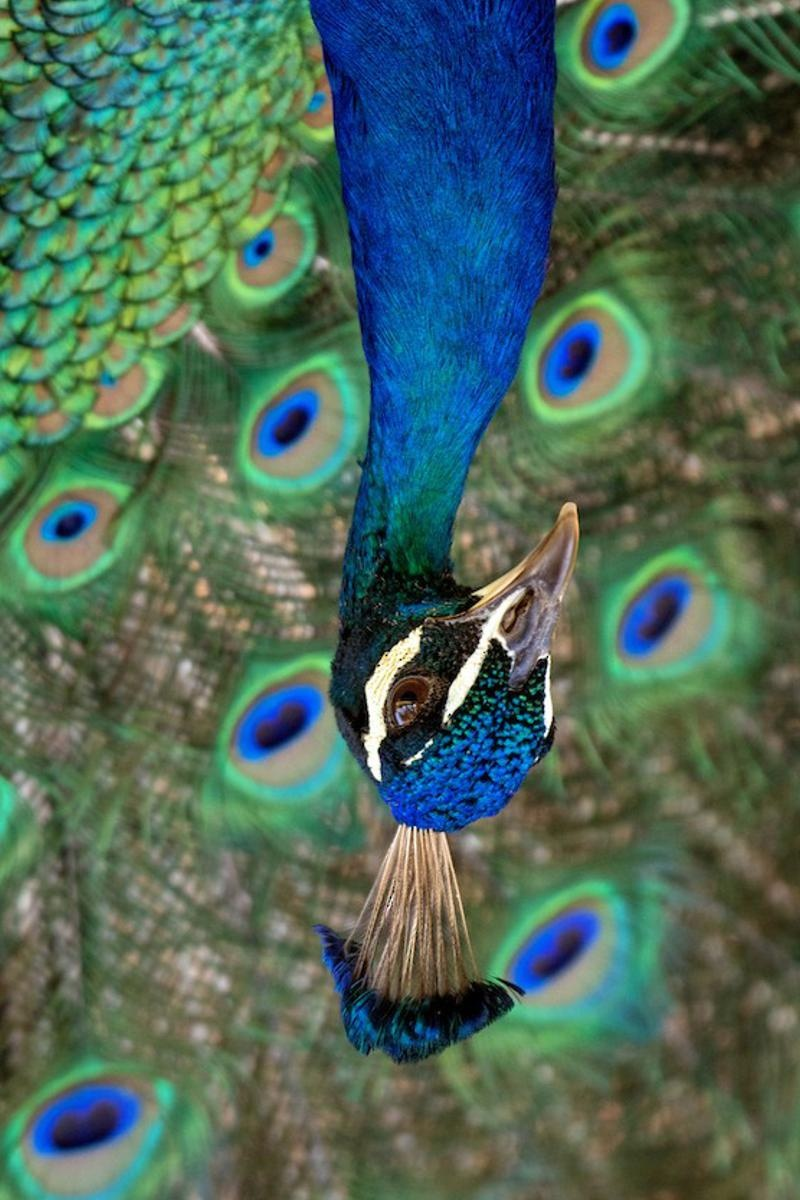peacock: (1, 1, 683, 1147)
